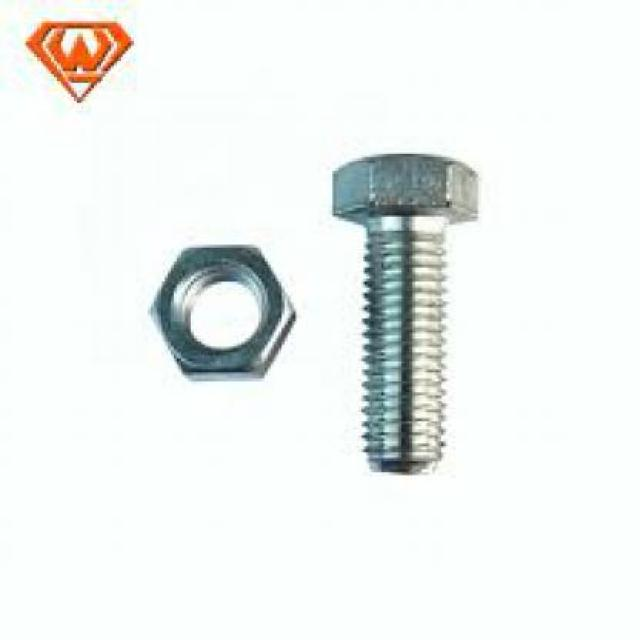METAL: (327, 154, 478, 472), (148, 242, 294, 376)
